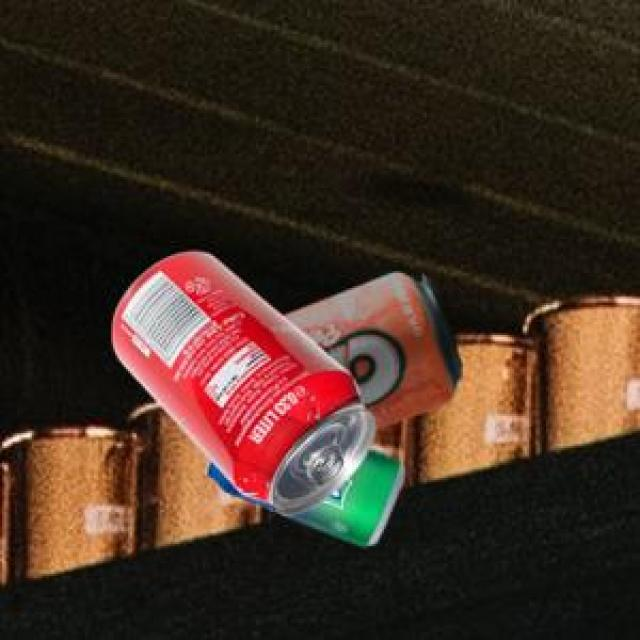Can: (112, 249, 372, 511), (281, 270, 458, 426), (204, 447, 402, 543)
